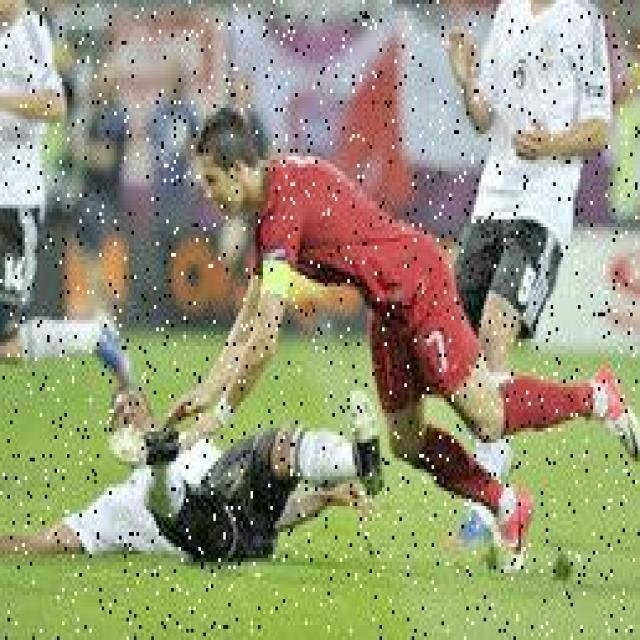fall: (189, 119, 625, 562), (52, 383, 382, 566)
